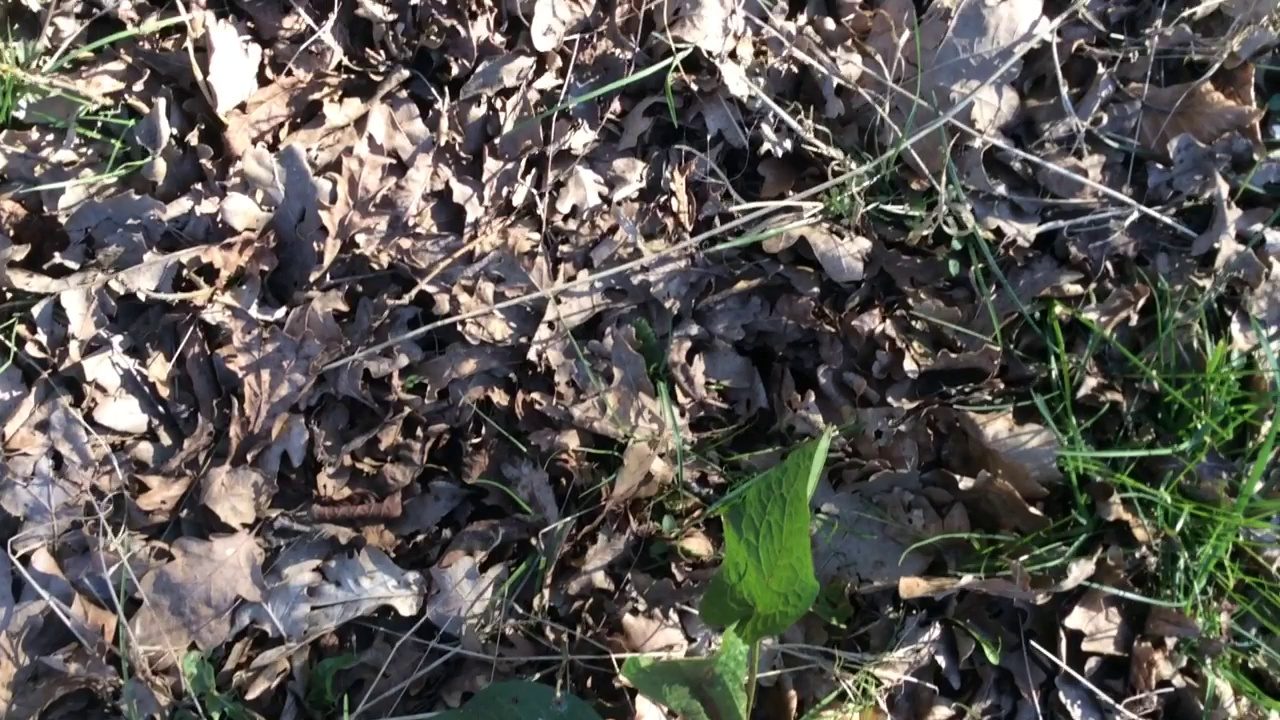rumex: (461, 431, 833, 720)
